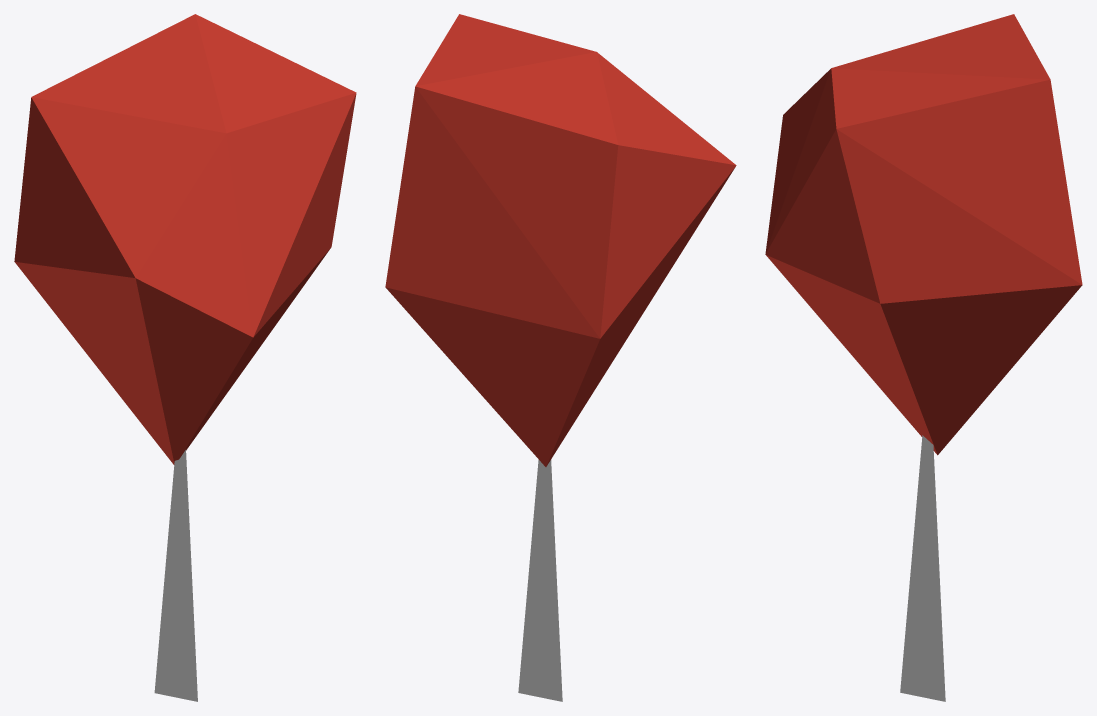
The model's file is world_2_brush_1.dae.
3 renders of one model, left to right at view 1: azimuth 30°, elevation 25°; view 2: azimuth 150°, elevation 25°; view 3: azimuth 270°, elevation 25°, orthographic. The views are drawn at different scales.
Parts seen in each view (by area): view 1: world_2_brush_1_leaves, world_2_brush_1_base; view 2: world_2_brush_1_leaves, world_2_brush_1_base; view 3: world_2_brush_1_leaves, world_2_brush_1_base.
Part boxes in pixels (left/top/right/bottom): world_2_brush_1_leaves: left=14, top=14, right=356, bottom=464; world_2_brush_1_base: left=154, top=450, right=197, bottom=701; world_2_brush_1_leaves: left=385, top=14, right=736, bottom=466; world_2_brush_1_base: left=518, top=459, right=562, bottom=701; world_2_brush_1_leaves: left=765, top=14, right=1082, bottom=455; world_2_brush_1_base: left=900, top=435, right=945, bottom=701.
Bounding box in the file's own units: 0.3475 × 0.3696 × 0.8338.
